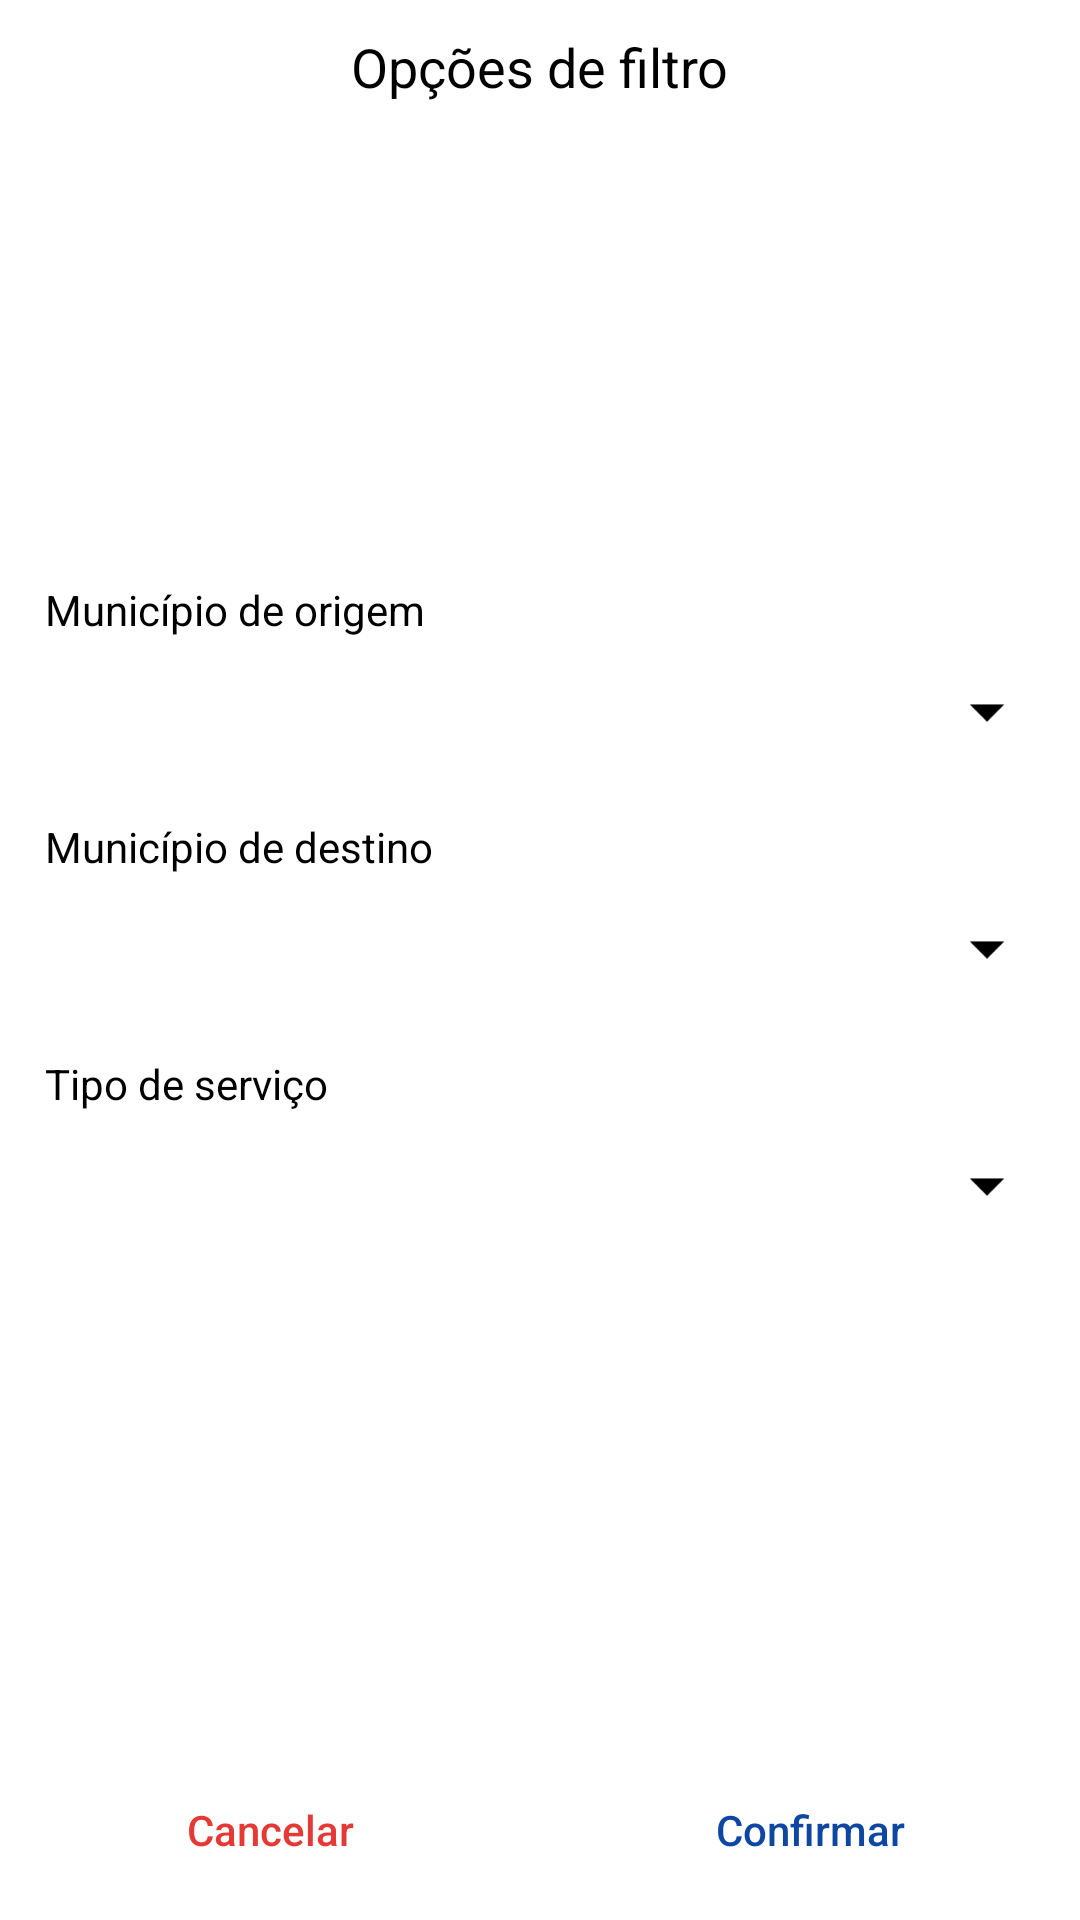

Icons on this 1080*1920 Android screen, each with the point to tap as (x,y):
arrow drop down: (987,713), (987,950), (987,1187)
